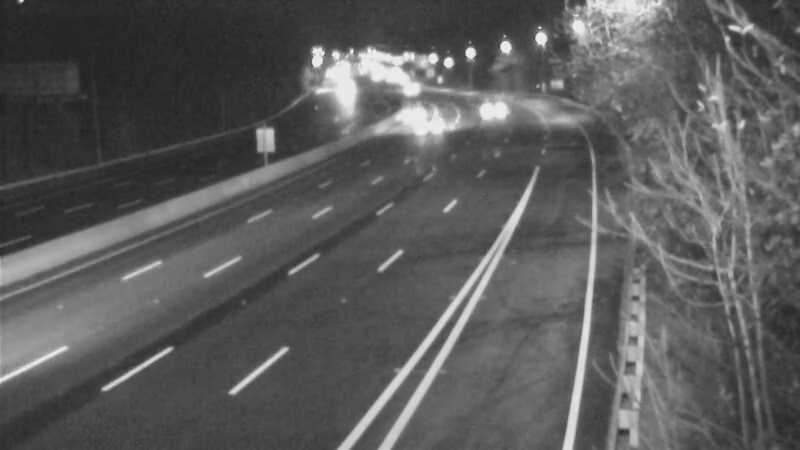vehicle: (389, 65, 439, 115), (464, 84, 514, 134), (390, 89, 440, 139), (407, 95, 457, 145)
